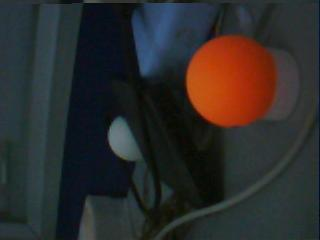oball: (185, 35, 275, 126)
